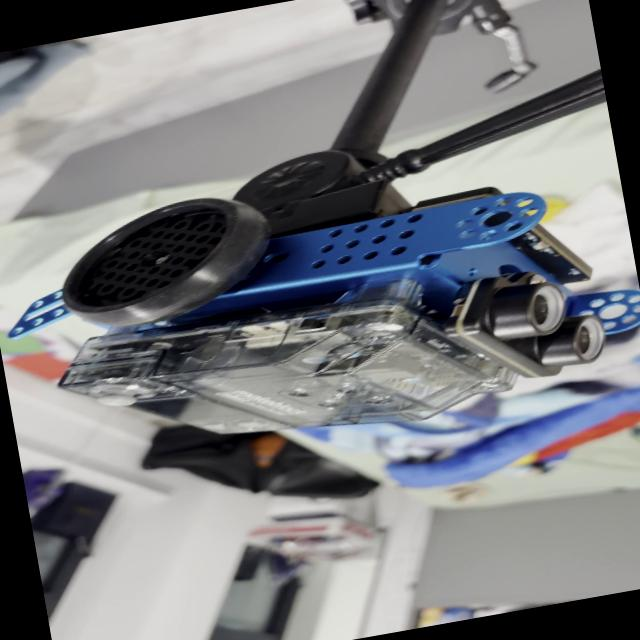mbot-detection: (0, 110, 640, 498)
